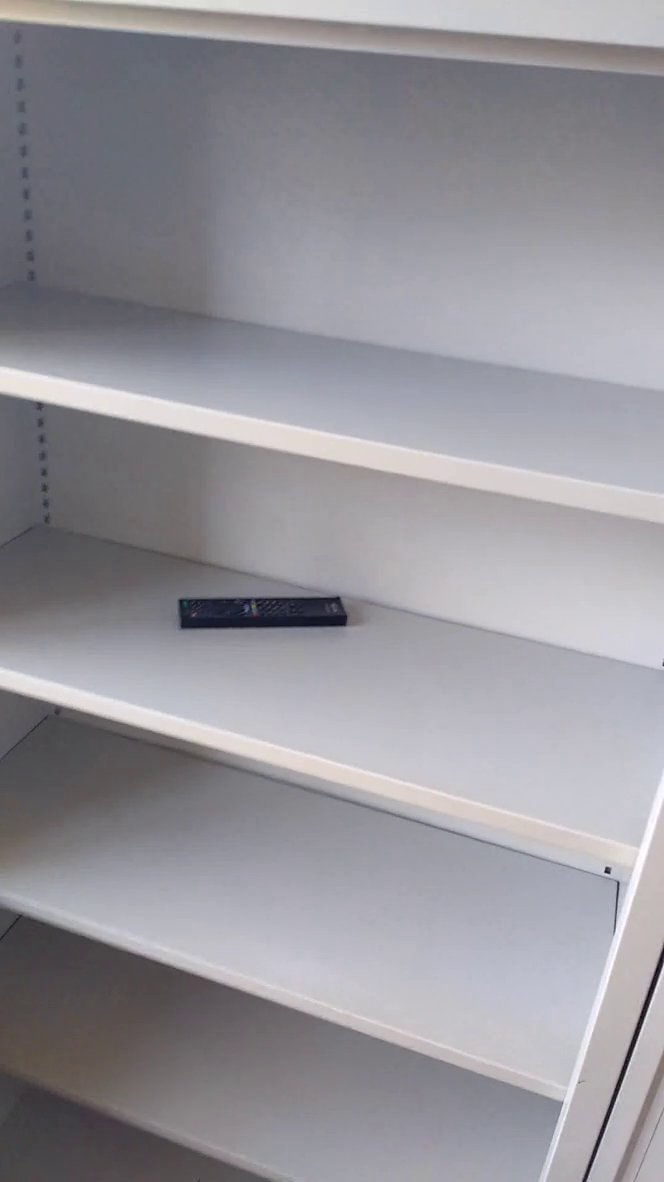remote: (168, 586, 358, 640)
